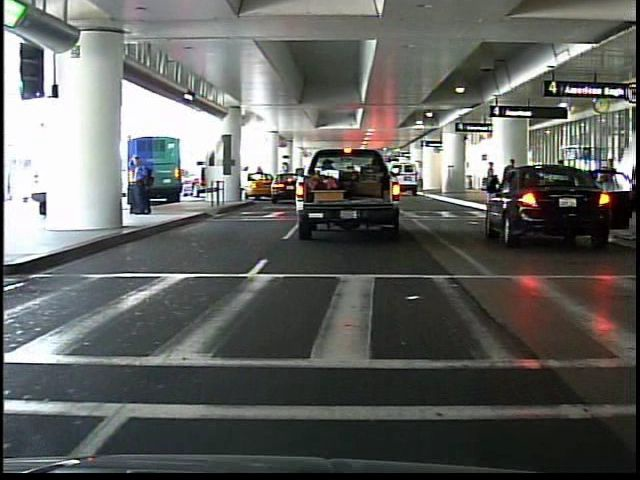person: (128, 152, 155, 218)
